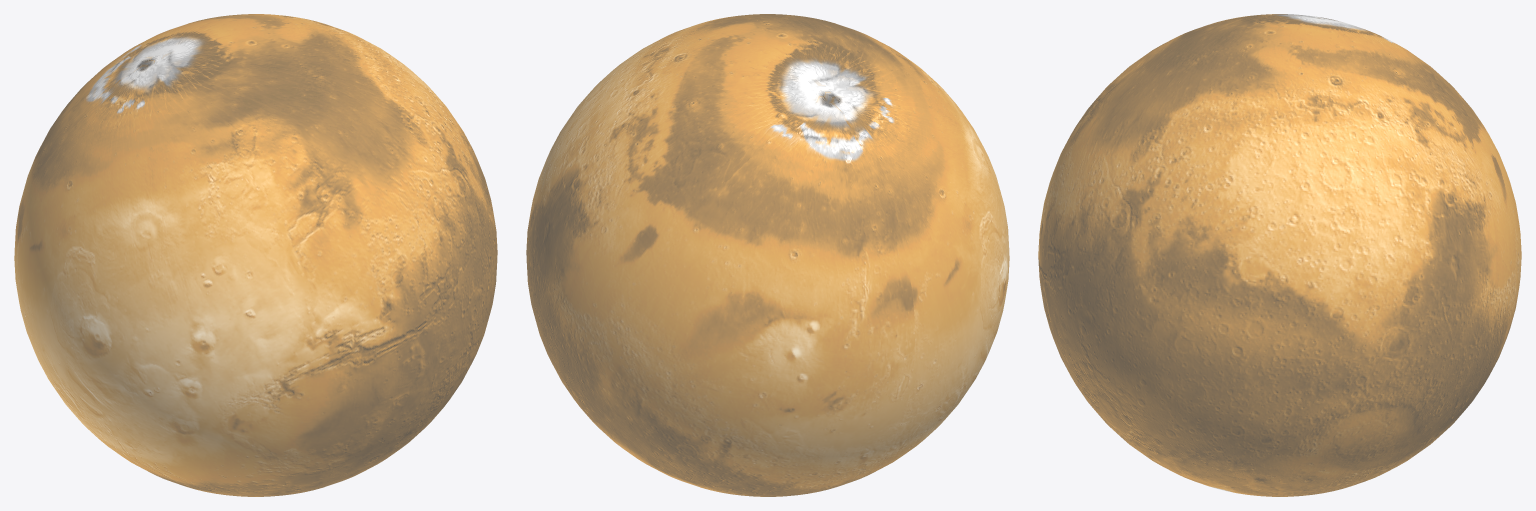
The model's file is mars.glb.
The picture shows the model from 3 angles, left to right: view 1: azimuth 30°, elevation 25°; view 2: azimuth 150°, elevation 25°; view 3: azimuth 270°, elevation 25°; orthographic projection.
Visible parts, largest first — view 1: Mercury; view 2: Mercury; view 3: Mercury.
Boxes of the visible parts, x1,y1,x2,y2 form: Mercury: (14, 14, 497, 496); Mercury: (526, 14, 1009, 496); Mercury: (1038, 14, 1521, 496).
Bounding box in the file's own units: 2 × 2 × 2.
1 material, 1 textured.
